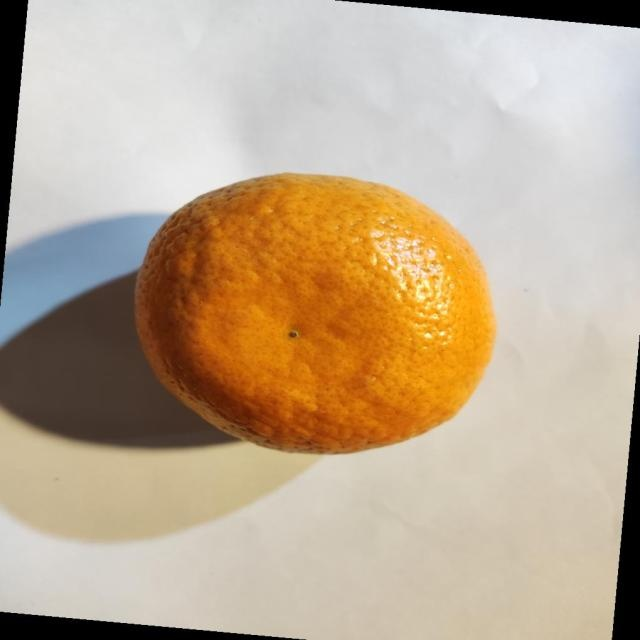agrume: (133, 171, 497, 456)
